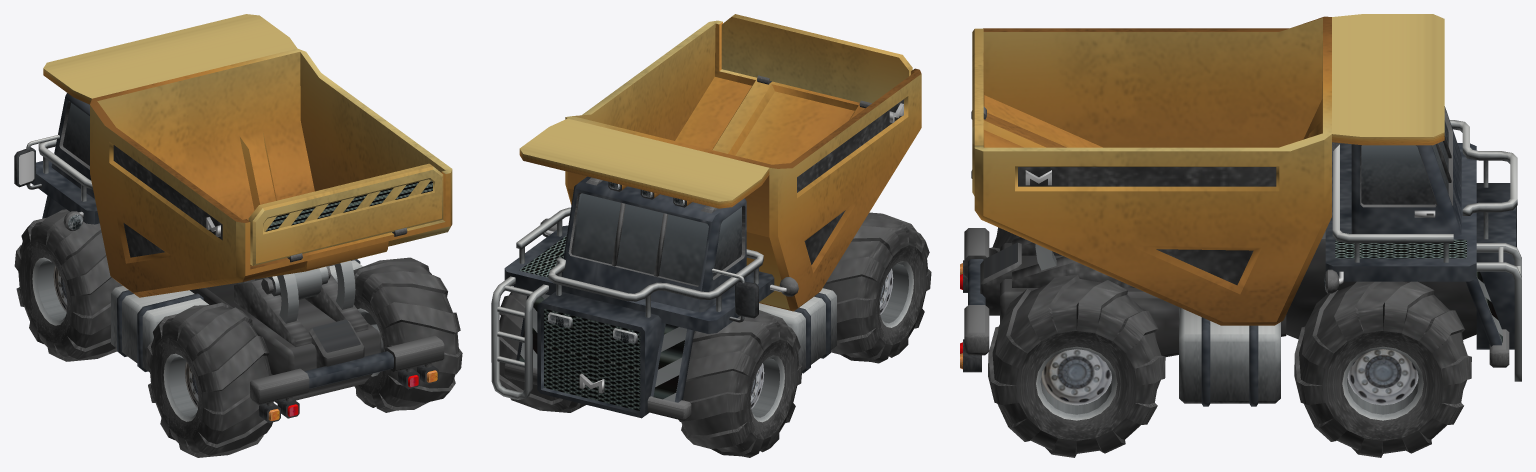
File: VHC0110023.FBX
3 views of the same model, side by side, from view 1: azimuth 30°, elevation 25°; view 2: azimuth 150°, elevation 25°; view 3: azimuth 270°, elevation 25° (orthographic). The views are drawn at different scales.
Visible parts, largest first — view 1: smVHC0110023; view 2: smVHC0110023; view 3: smVHC0110023.
Boxes of the visible parts, box(x1,y1,x2,y2) form: smVHC0110023: box(14, 14, 462, 457); smVHC0110023: box(491, 14, 931, 457); smVHC0110023: box(960, 14, 1521, 457).
Bounding box in the file's own units: 422 × 412 × 660.
1 material, 1 textured.
